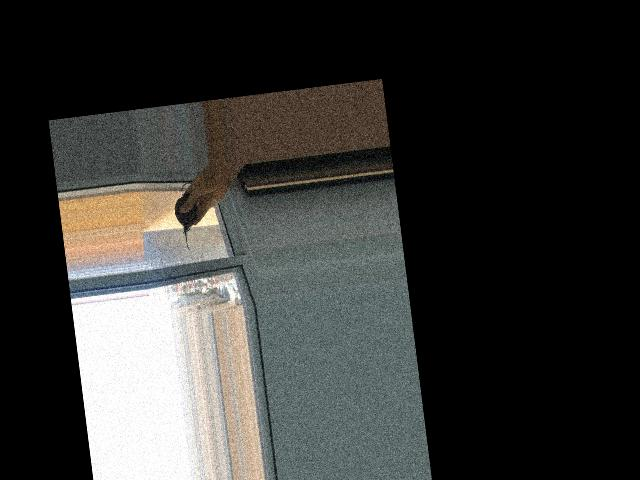beet: (171, 181, 209, 252)
